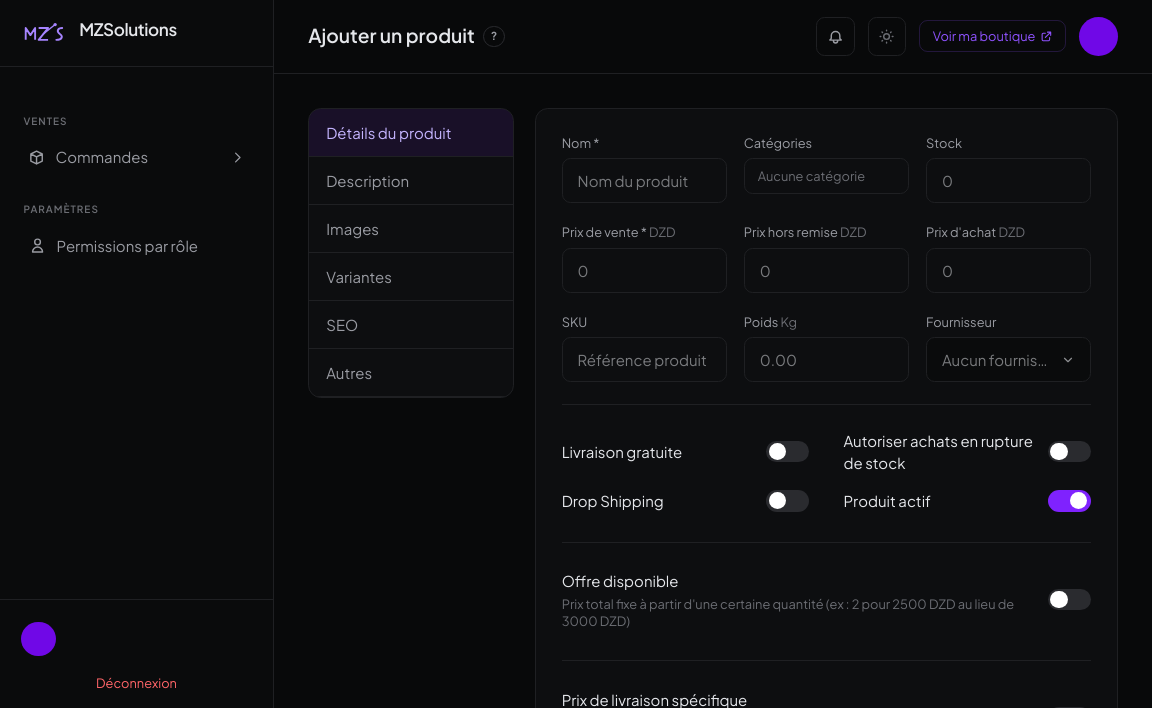
Test: ProductFormPage › shows server-side field errors without navigating away
Type "Casquette" into the field with placeholder "Nom du produit" at (644,181), box [562,158,727,203]
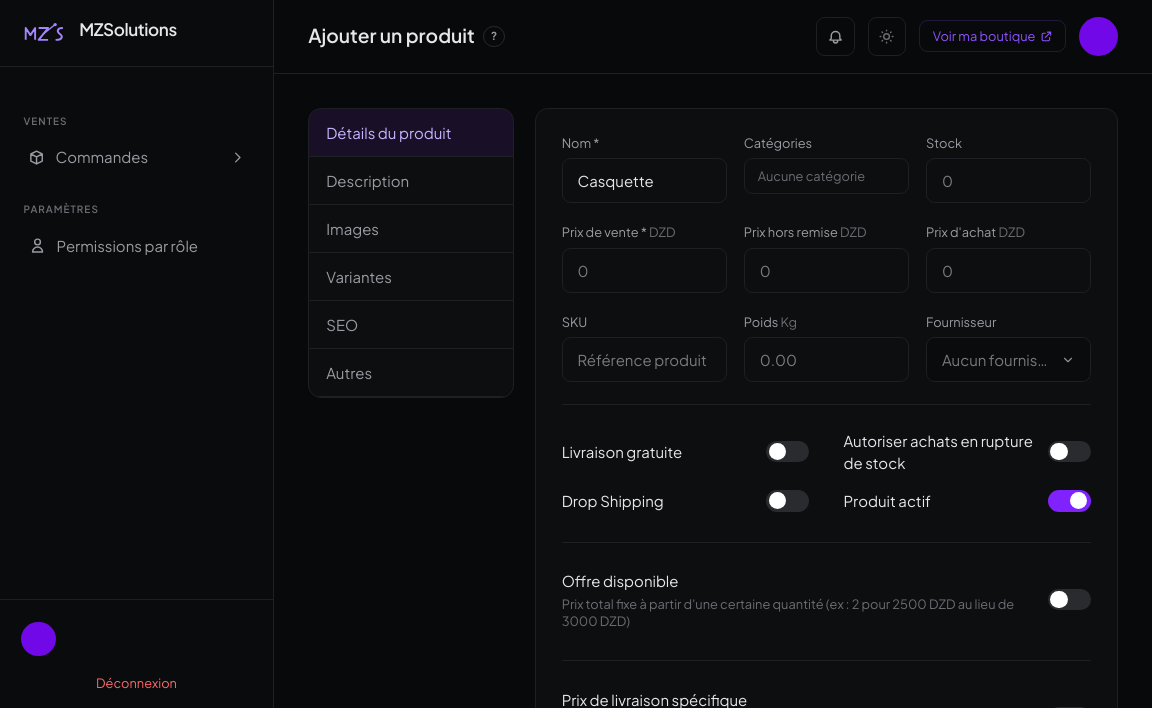
Type "2000" into the number field named "price" at (644,270), box [562,248,727,293]
(page scrolled)
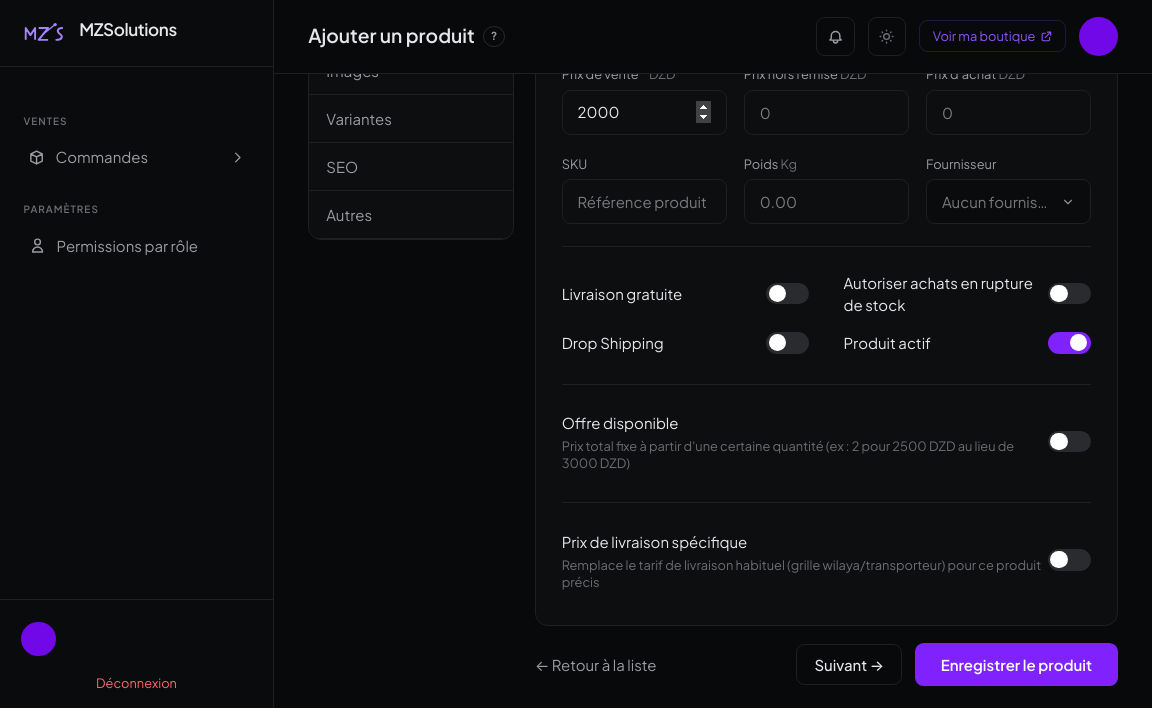
Click the button "Enregistrer le produit" at (1016,665), box [915,643,1118,686]
(page scrolled)
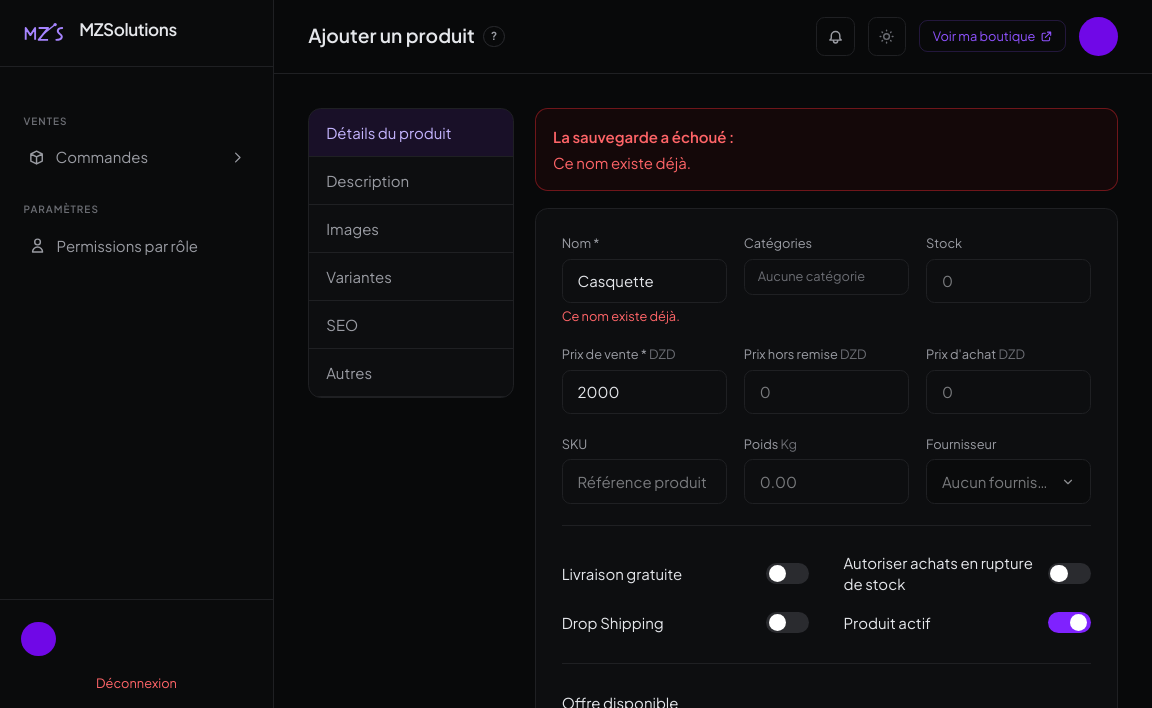
Now the text "La sauvegarde a échoué :" is shown, box [553,127,734,146]
Now the text "Ce nom existe déjà." is shown 2 times, box [553,153,691,172]; [562,308,680,324]
